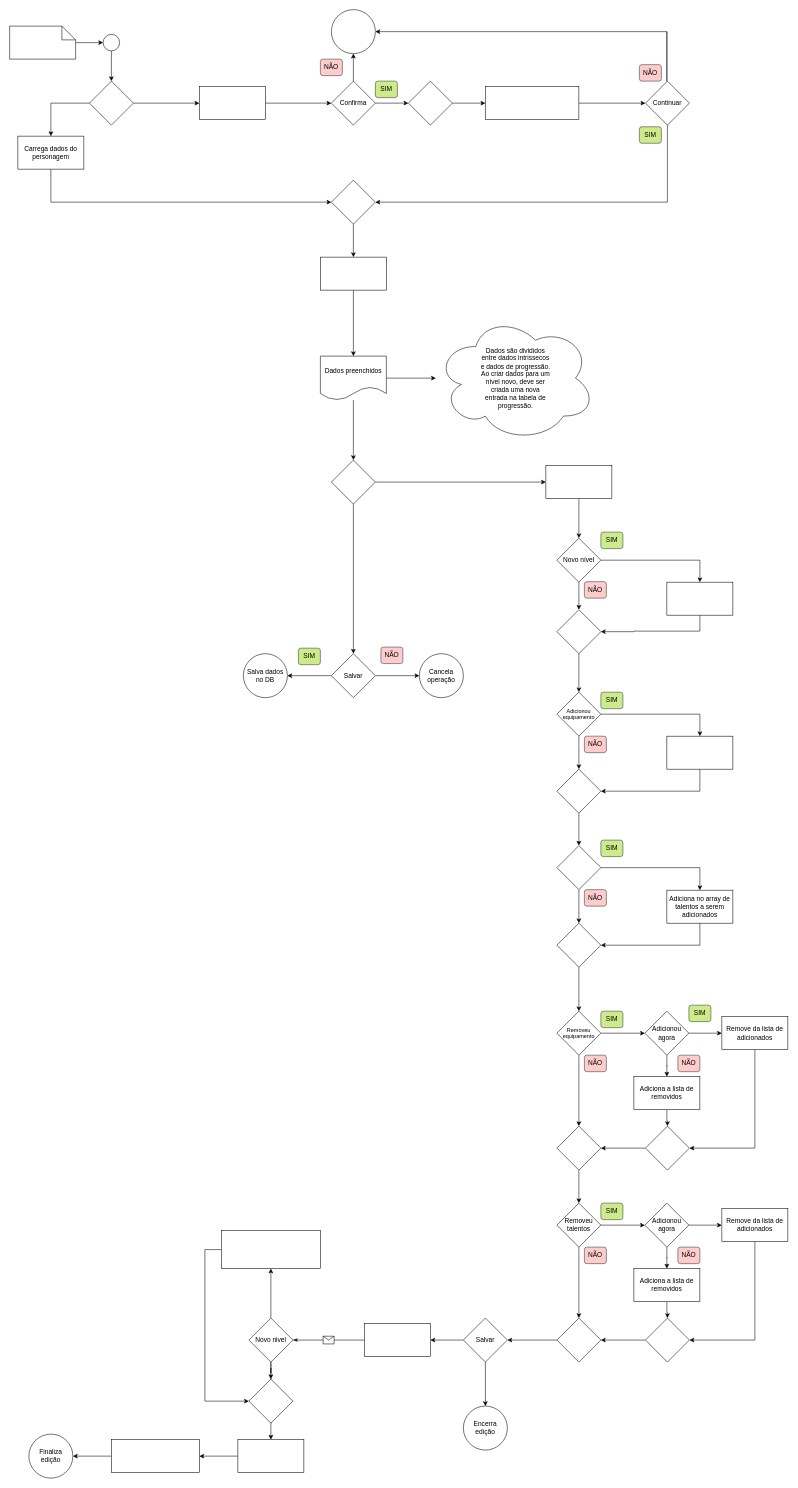
Image size: 798x1488. Some labels were removed from this diagram. Each missing label, with the centre of its shape:
"Abre modal para preencher apenas dados intrissecos do personagem" goes at point (232, 103).
"Abre pagina completa de dados do personagem" goes at point (353, 273).
"Adiciona no array de equipamentos a serem adicionados" goes at point (699, 752).
"Adicionou talento" goes at point (578, 867).
"API retornou sucesso" goes at point (430, 103).
"Copia dados da progressão anterior" goes at point (699, 598).
"Criação/edição de personagens" goes at point (42, 42).
"Edita progressão" goes at point (353, 482).
"Encerra criação" goes at point (353, 31).
"Envia JSON informando nivel e dados a serem adicionados" goes at point (397, 1340).
"Há ID" goes at point (111, 103).
"Informa que houve sucesso e pergunta se deseja continuar edição do personagem" goes at point (532, 103).
"Nova entrada na tabela de nível e copia talentos e equipamentos já existentes" goes at point (270, 1249).
"Relaciona os talentos e equipamentos adicionados ao nivel" goes at point (270, 1456).
"Remove as relações dos talentos e equipamentos removidos do mivel" goes at point (155, 1456).
"Seleciona nível a ser alterado" goes at point (578, 482).
